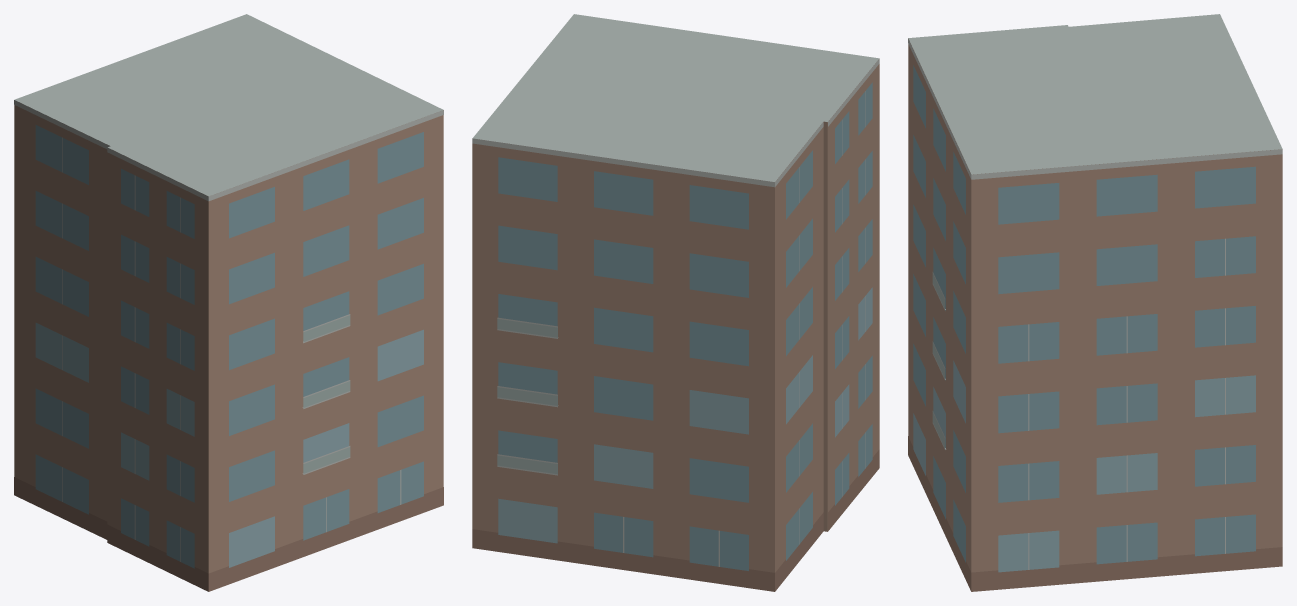
The model's file is survey-upis-32972655.glb.
3 views of the same model, side by side, from view 1: azimuth 30°, elevation 25°; view 2: azimuth 150°, elevation 25°; view 3: azimuth 270°, elevation 25° (orthographic). The views are drawn at different scales.
Parts seen in each view (by area): view 1: survey-upis-32972655.tmp; view 2: survey-upis-32972655.tmp; view 3: survey-upis-32972655.tmp.
Boxes of the visible parts, x1=… form: survey-upis-32972655.tmp: x1=14, y1=14, x2=443, y2=591; survey-upis-32972655.tmp: x1=472, y1=14, x2=879, y2=591; survey-upis-32972655.tmp: x1=908, y1=14, x2=1282, y2=591.
Size of the model in its own units: 16.1 by 19.5 by 15.87.
